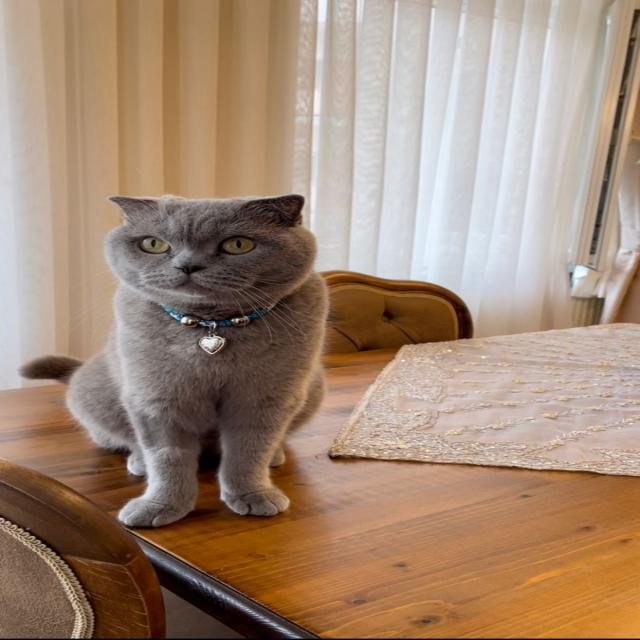british shorthair: (66, 83, 572, 532)
